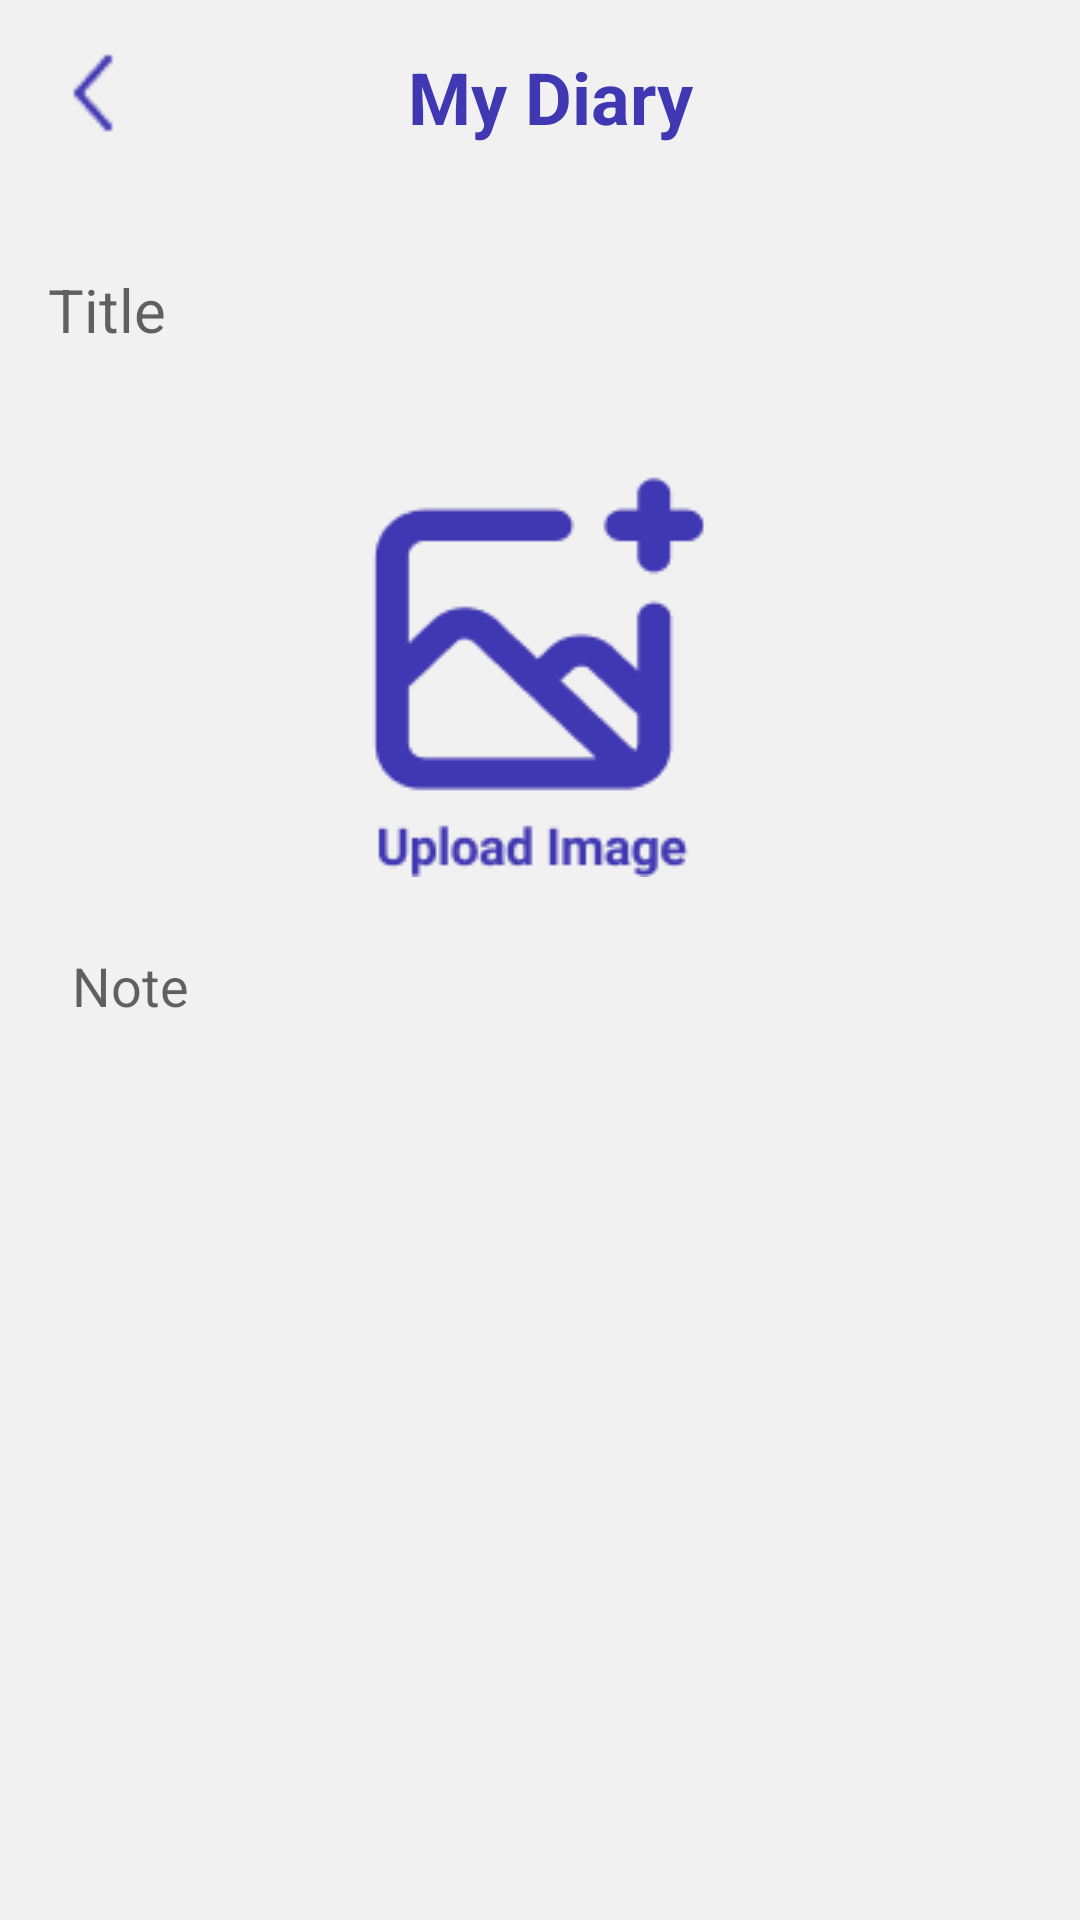

Screen size 1080px x 1920px. Icon name, then its center in pixels as point (x, y):
backbutton: point (93, 93)
